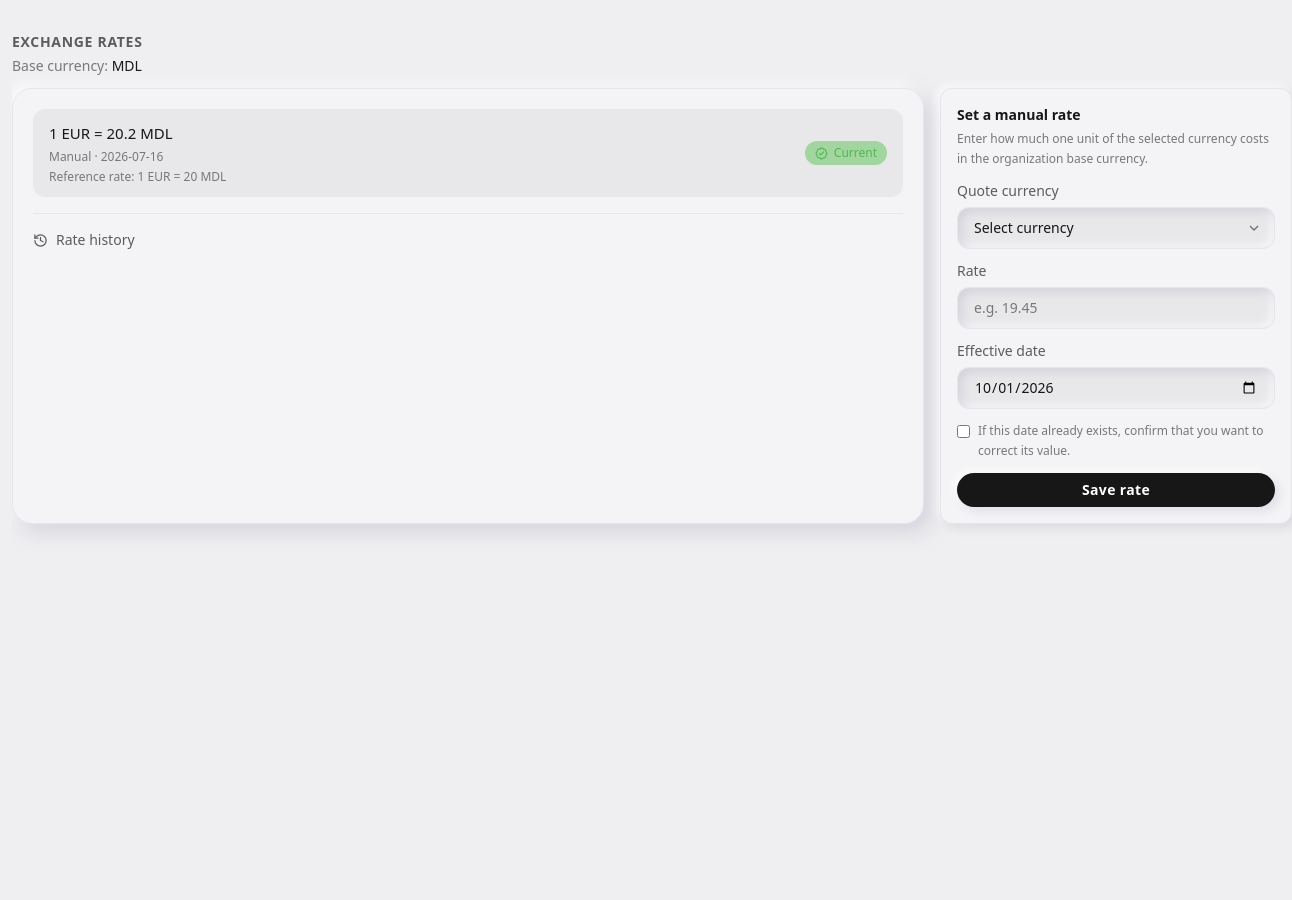
Test case: ExchangeRatesWidget › uses the explicit one-foreign-unit-to-org-base convention
Expected: the text "1 EUR = 20.2 MDL" is shown, [49, 123, 173, 143]
Expected: the text "Reference rate: 1 EUR = 20 MDL" is shown, [49, 169, 226, 185]
Select "EUR" in the dropdown labelled "Quote currency" at [1116, 228], box [957, 207, 1275, 249]
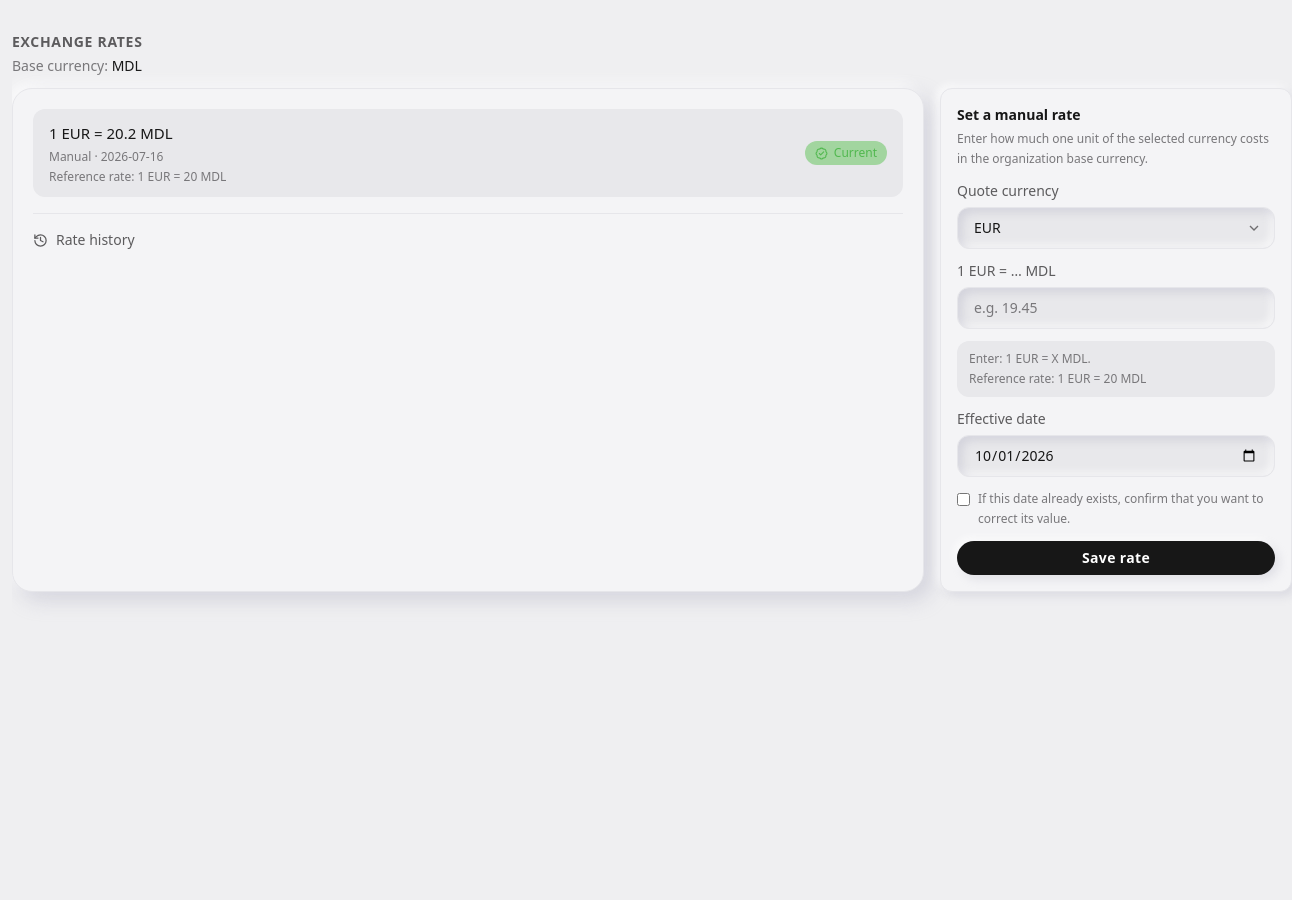
Type "2,02" into the field labelled "1 EUR = … MDL" at [1116, 308], box [957, 287, 1275, 329]
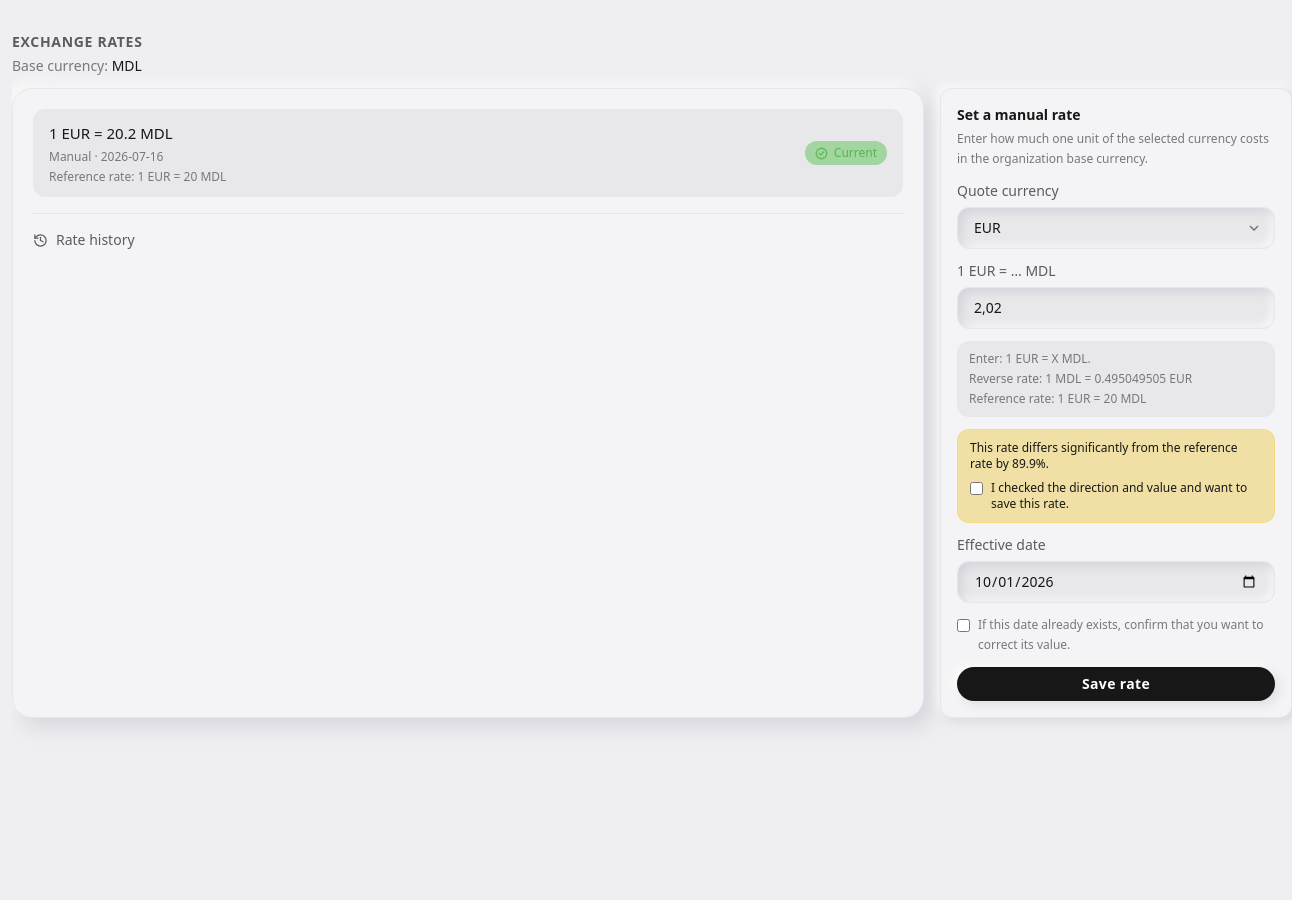
Now the text "Enter: 1 EUR = X MDL." is shown, box [969, 350, 1091, 367]
Now the text "This rate differs significantly" is shown, box [970, 439, 1238, 472]
Now the text "I checked the direction and value" is shown, box [991, 479, 1247, 512]
